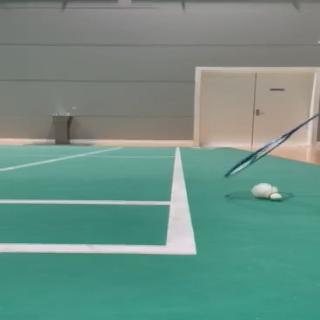Shuttle: (252, 183, 282, 201)
